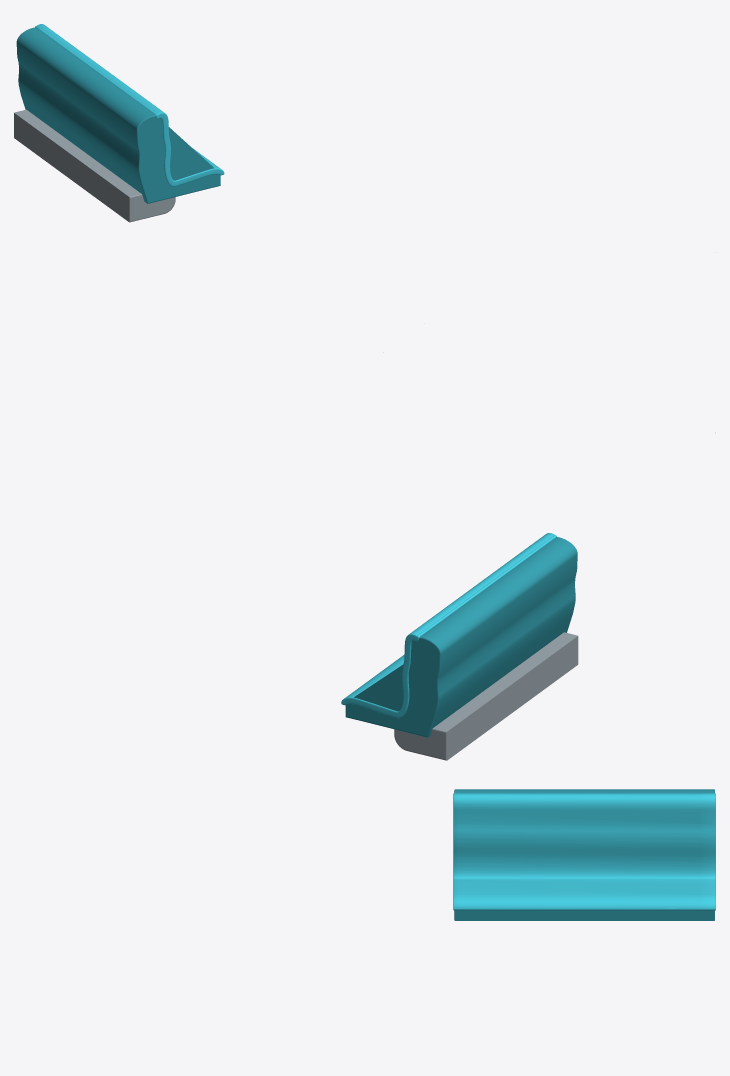
File: Seat.fbx
3 views of the same model, one above another, from view 1: azimuth 30°, elevation 25°; view 2: azimuth 150°, elevation 25°; view 3: azimuth 270°, elevation 25° (orthographic). The views are drawn at different scales.
Parts seen in each view (by area): view 1: Bench_Sides, Bench_underneath, Bench_top_Textured; view 2: Bench_Sides, Bench_underneath, Bench_top_Textured; view 3: Bench_top_Textured, Bench_Sides.
Boxes of the visible parts, x1,y1,x2,y2 form: Bench_Sides: [16, 27, 220, 203]; Bench_underneath: [14, 109, 175, 222]; Bench_top_Textured: [35, 24, 224, 186]; Bench_Sides: [345, 537, 577, 737]; Bench_underneath: [394, 632, 578, 760]; Bench_top_Textured: [341, 533, 556, 718]; Bench_top_Textured: [453, 793, 715, 910]; Bench_Sides: [454, 789, 714, 920].
Bounding box in the file's own units: 343 × 91.63 × 511.
